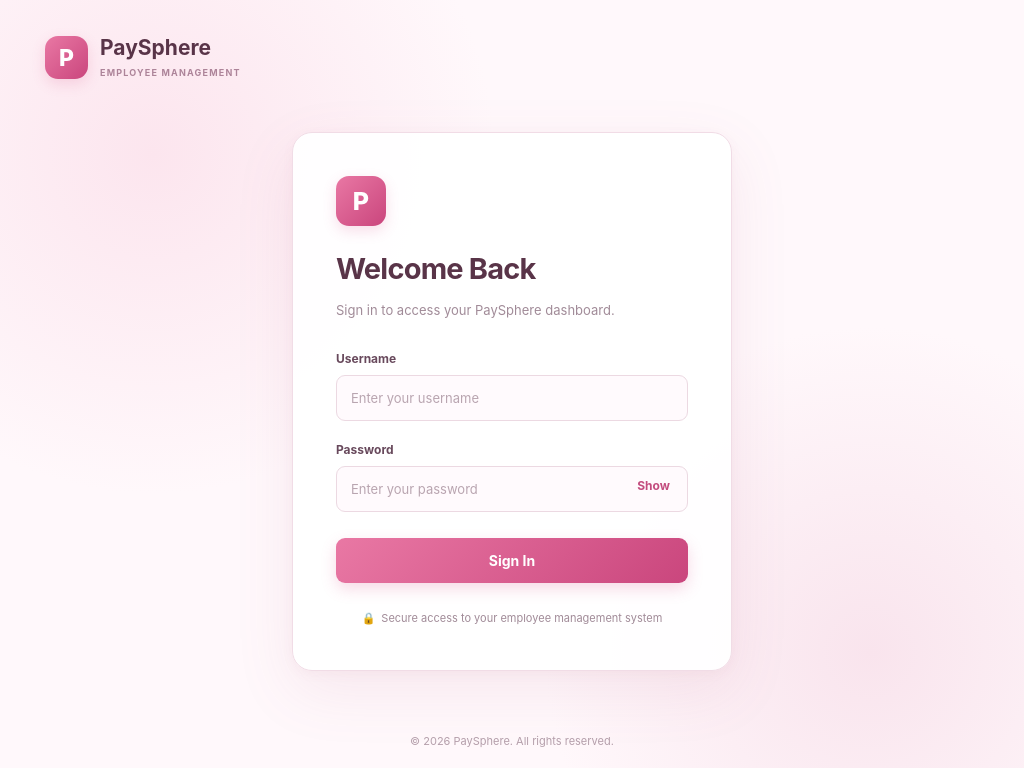
Test case: Login component › handles a login response without an access token
In the field labelled "Username": [512, 398] box 336,375 -> 688,421, type "admin"
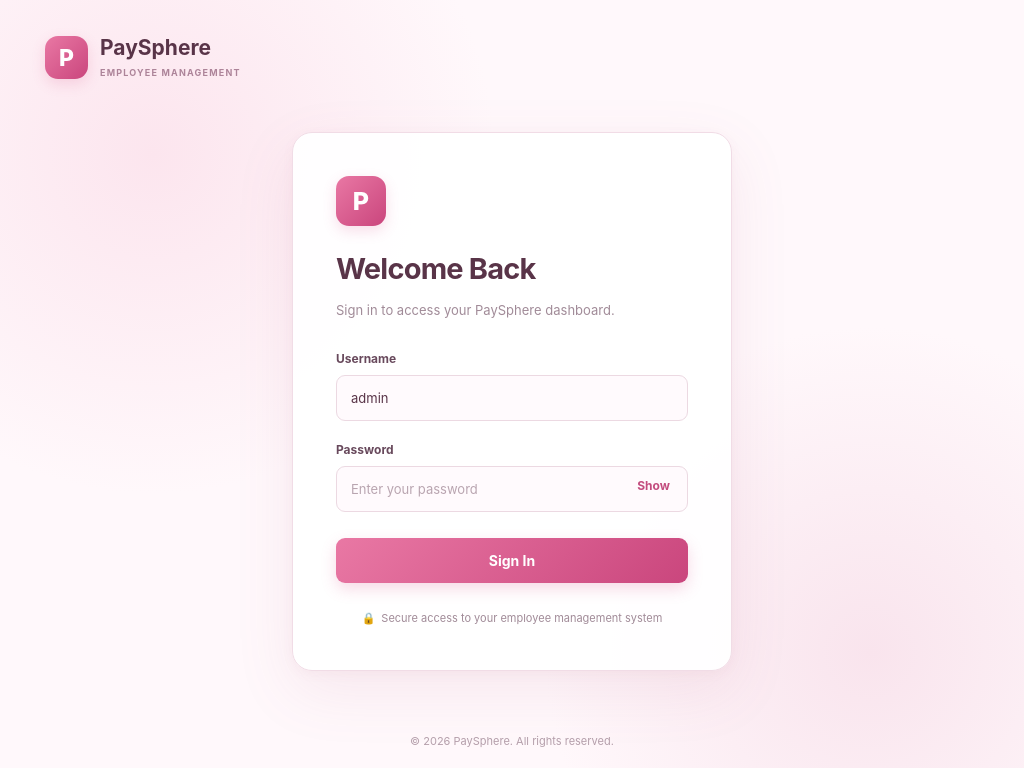
In the password field labelled "Password": [512, 489] box 336,466 -> 688,512, type "test-password"
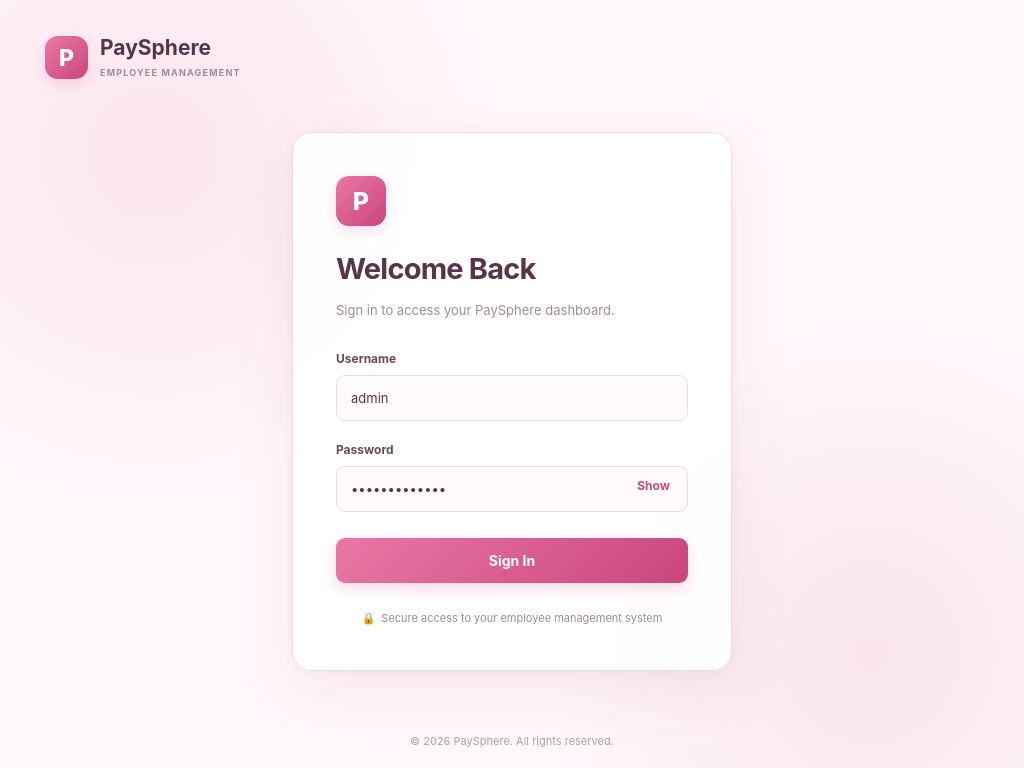
Click the button "Sign In": [512, 560] box 336,538 -> 688,583
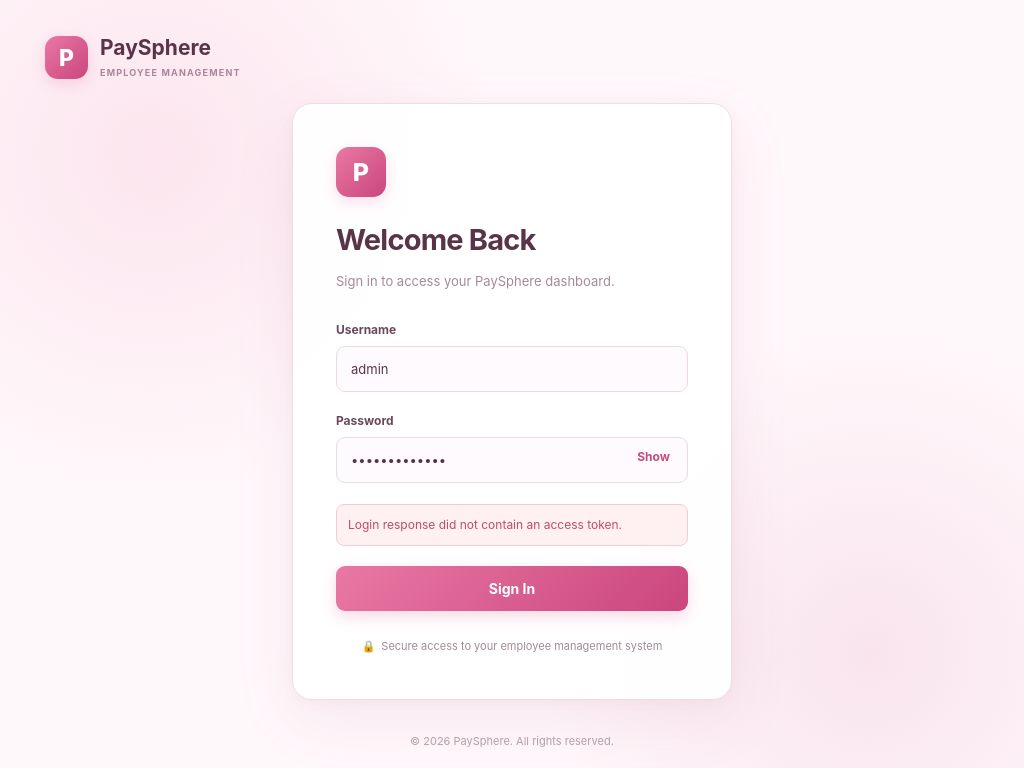
Check: the message reads "Login response did not contain an access token.", box 348,517 -> 622,532
